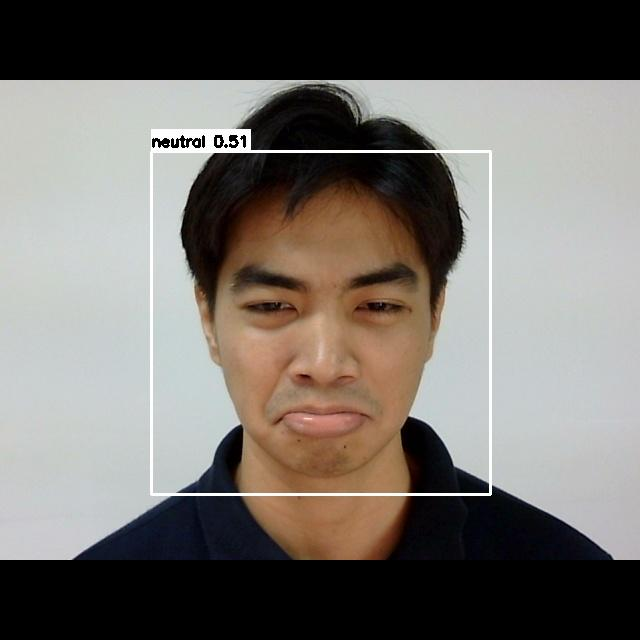Sad: (198, 219, 451, 456)
